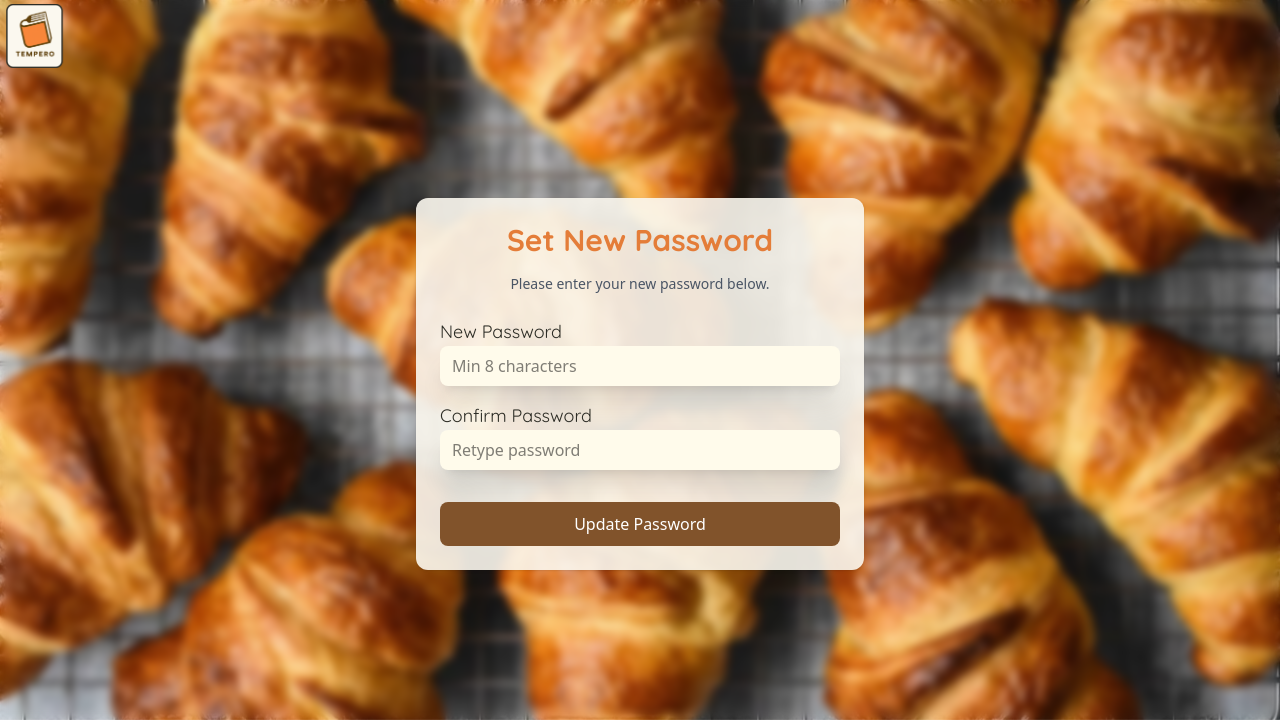
UpdatePasswordPage › mostra erro se updateUser falhar
Type "Password123!" into the password field labelled "New Password" at point(640, 366), box x1=440 y1=346 x2=840 y2=386
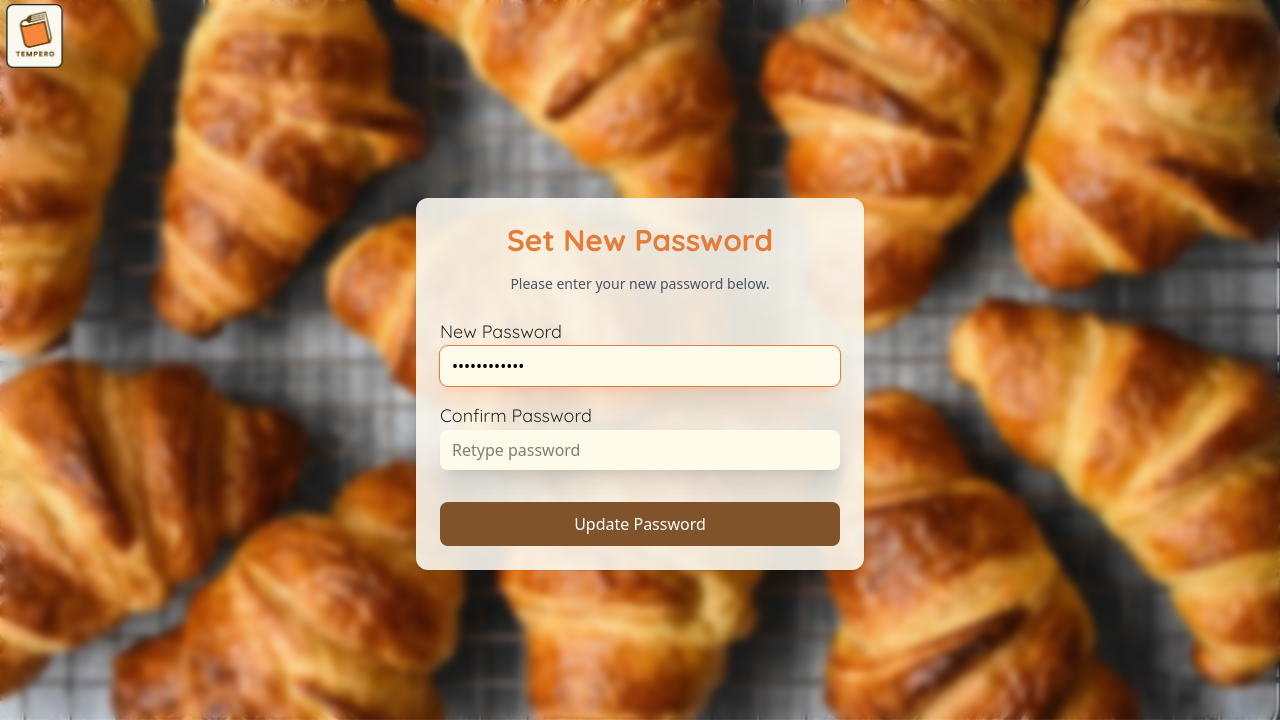
Type "Password123!" into the password field labelled "Confirm Password" at point(640, 450), box x1=440 y1=430 x2=840 y2=470
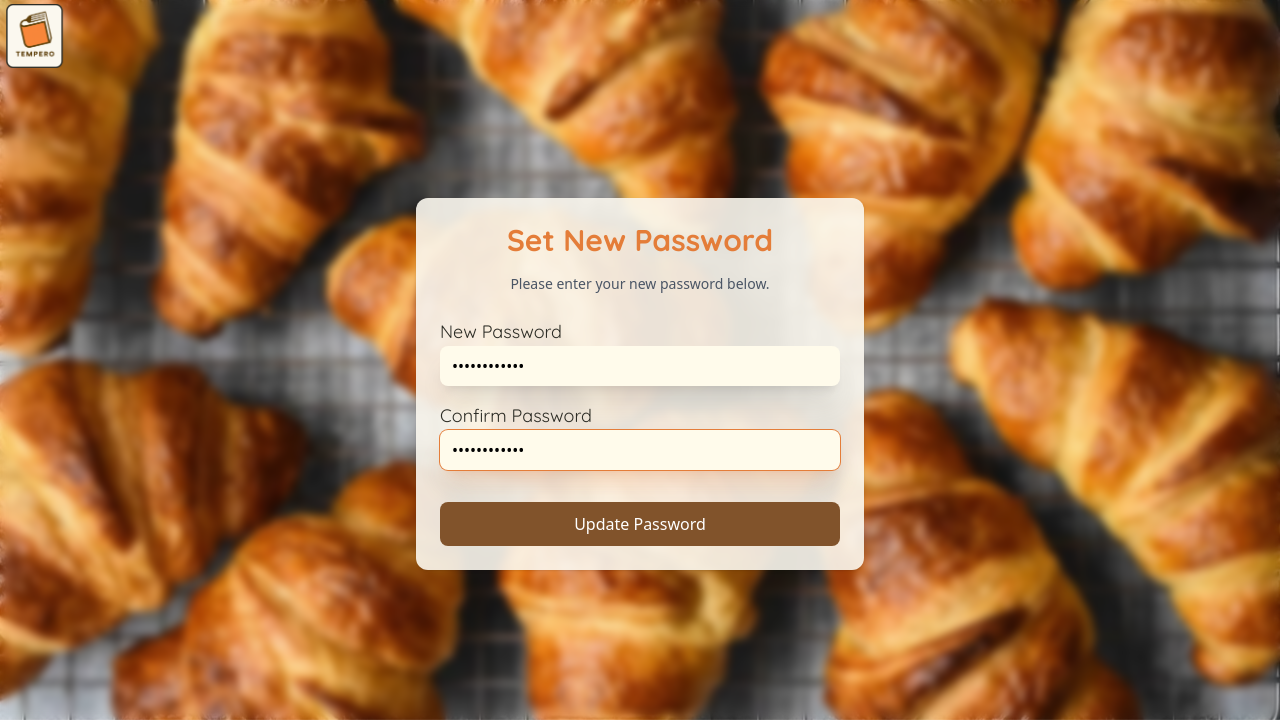
Click the button "Update Password" at point(640, 524), box x1=440 y1=502 x2=840 y2=546
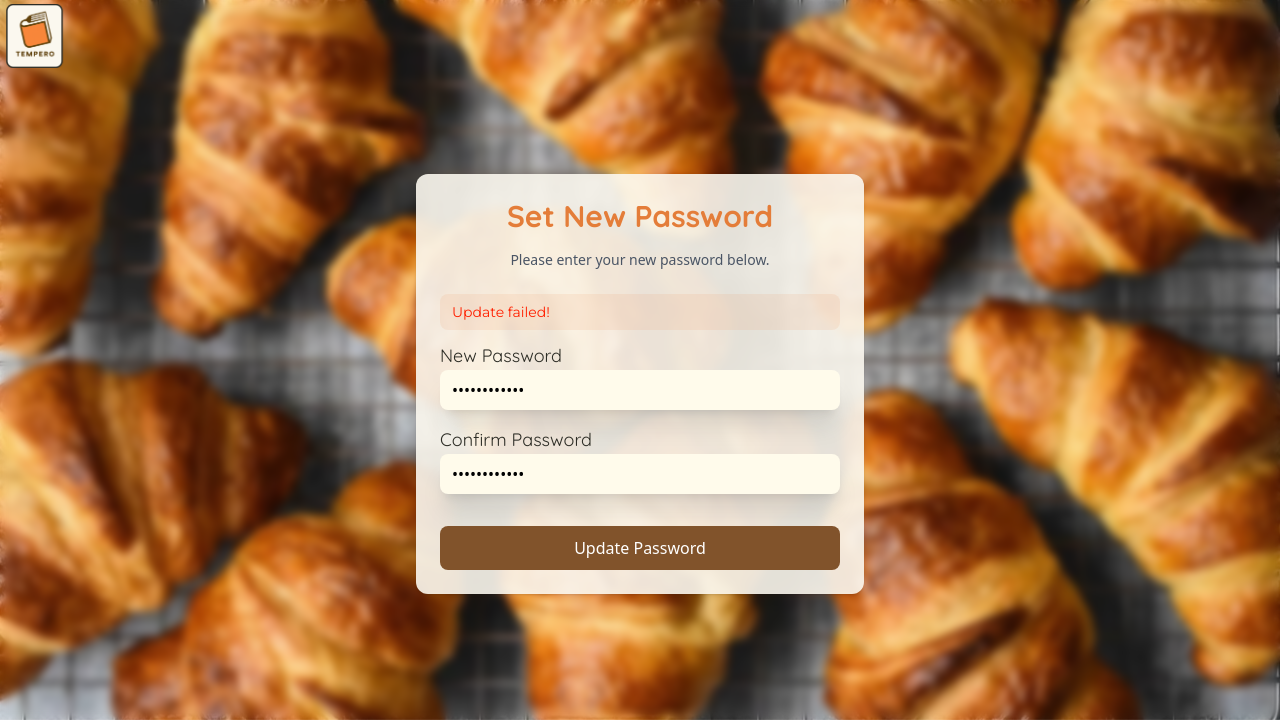
Check: the text "Update failed!" is shown, box x1=440 y1=294 x2=840 y2=330
